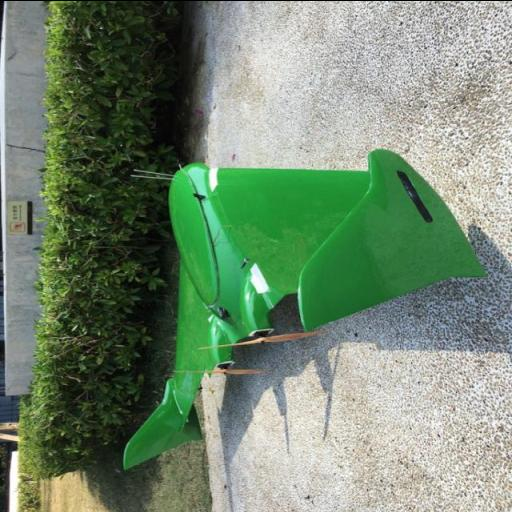uav: (116, 148, 478, 471)
